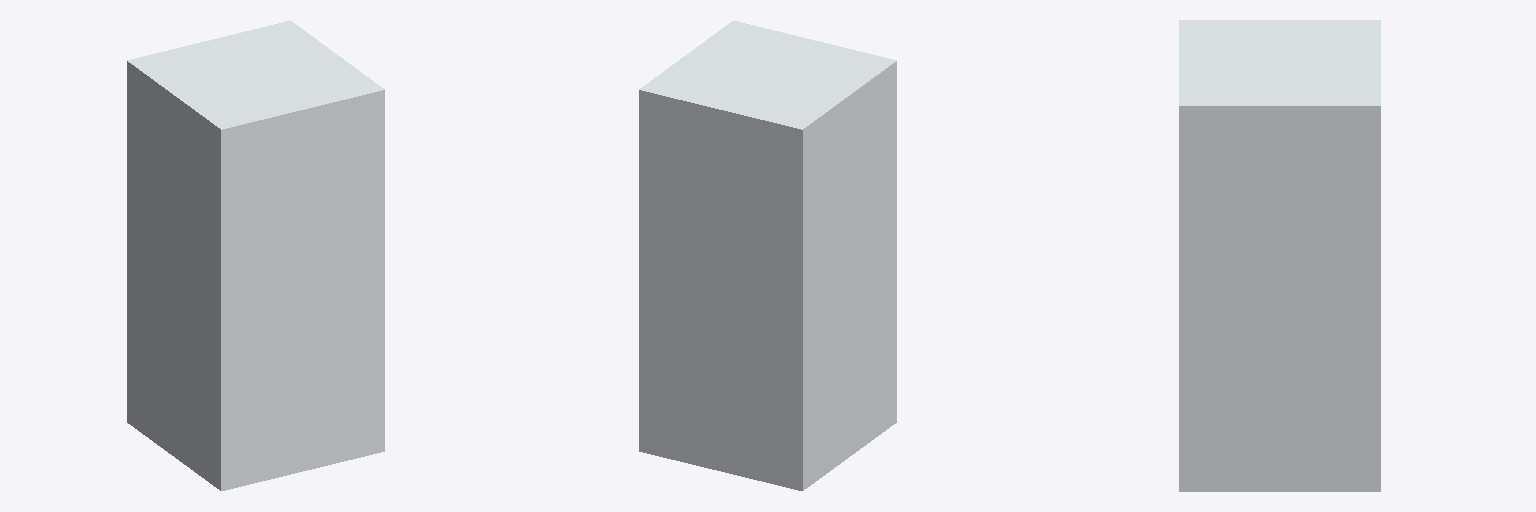
The robot description file, URDF, robot "large_white_box":
<robot name="large_white_box">
  <link name="base_link">
    <collision>
      <origin xyz="0 0 0.1075" />
      <geometry>
        <box size="0.102 0.102 0.215" />
      </geometry>
    </collision>
    <visual>
      <origin xyz="0 0 0.1075" />
      <material name="c">
        <color rgba="0.96 0.98 0.99 1.0" />
      </material>
      <geometry>
        <box size="0.102 0.102 0.215" />
      </geometry>
    </visual>
  </link>
</robot>

--- Render facts (derived) ---
3 views of the same robot in one strip: view 1: azimuth 30°, elevation 25°; view 2: azimuth 150°, elevation 25°; view 3: azimuth 270°, elevation 25° (orthographic).
Robot: large_white_box — 1 links, 0 joints (none); root link base_link; default pose: every joint at zero.
Links seen in each view (by area): view 1: base_link; view 2: base_link; view 3: base_link.
Boxes of the visible links, x1,y1,x2,y2 form: base_link: [127, 21, 384, 490]; base_link: [639, 21, 896, 490]; base_link: [1179, 20, 1380, 491].
Bounding box of the posed robot: 0.102 × 0.102 × 0.215 m (x, y, z).
Geometry: primitives only (box / cylinder / sphere), no mesh files.